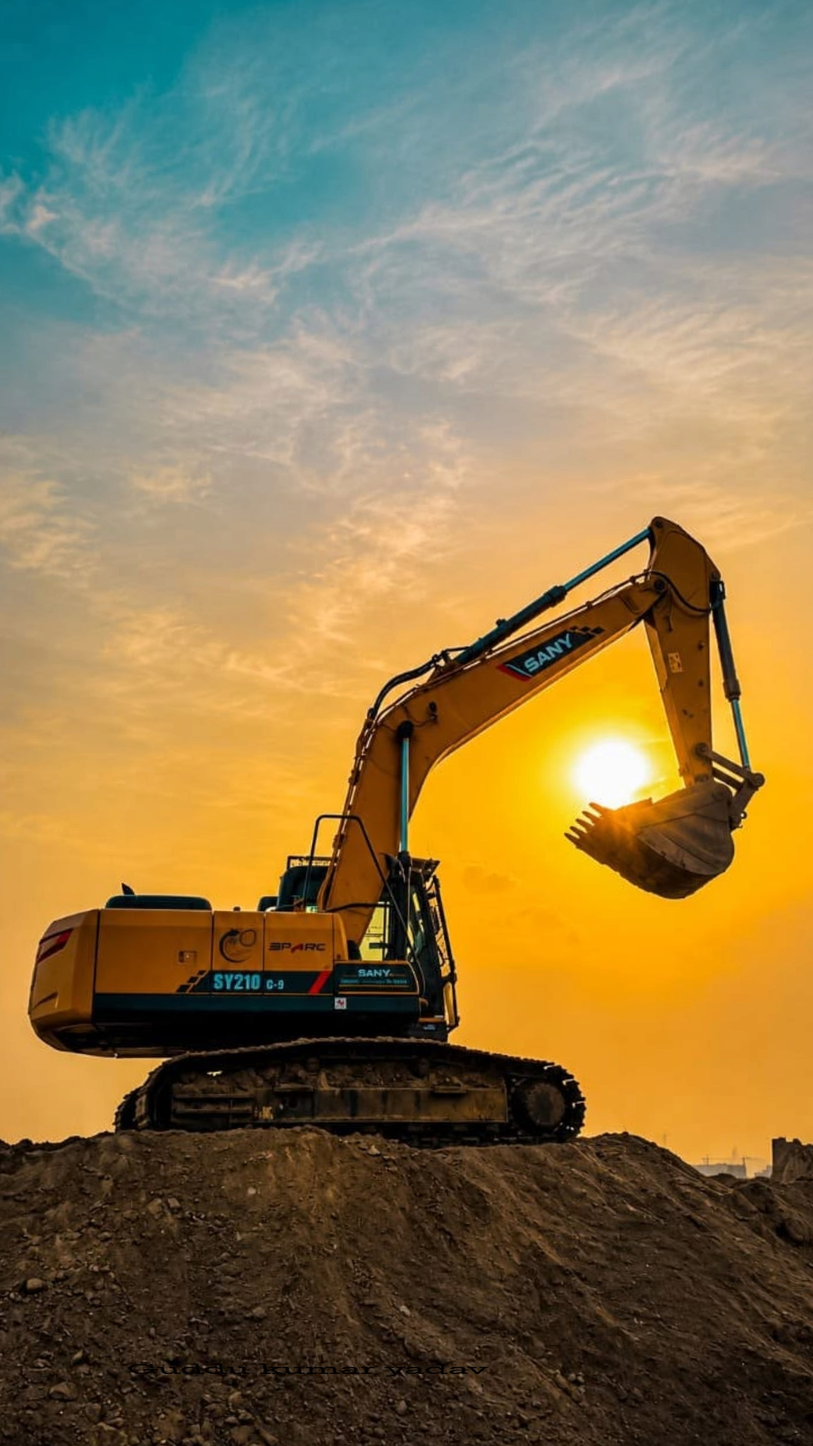excavator: (39, 487, 762, 1213)
